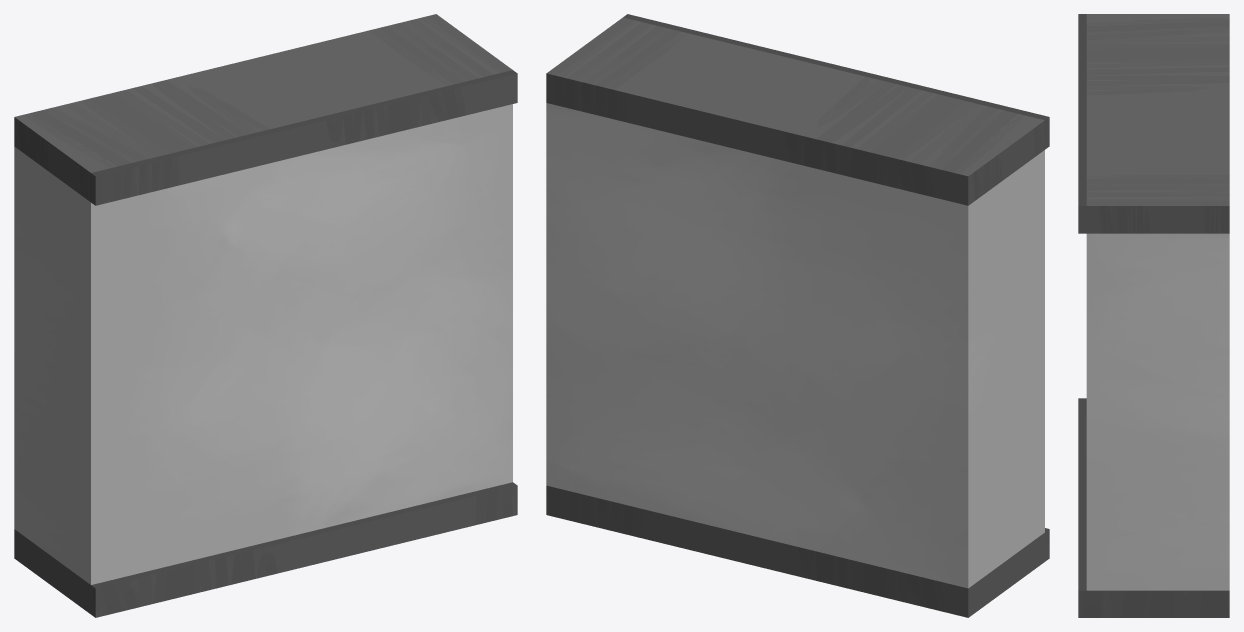
The model's file is Wall_Base.fbx.
3 views of the same model, side by side, from view 1: azimuth 30°, elevation 25°; view 2: azimuth 150°, elevation 25°; view 3: azimuth 270°, elevation 25° (orthographic). The views are drawn at different scales.
Parts seen in each view (by area): view 1: Wall_Base; view 2: Wall_Base; view 3: Wall_Base.
Part boxes in pixels (box(x1,y1,x2,y2)): Wall_Base: box(14, 14, 517, 617); Wall_Base: box(546, 14, 1049, 617); Wall_Base: box(1078, 14, 1229, 617).
Size of the model in its own units: 300 by 300 by 100.
